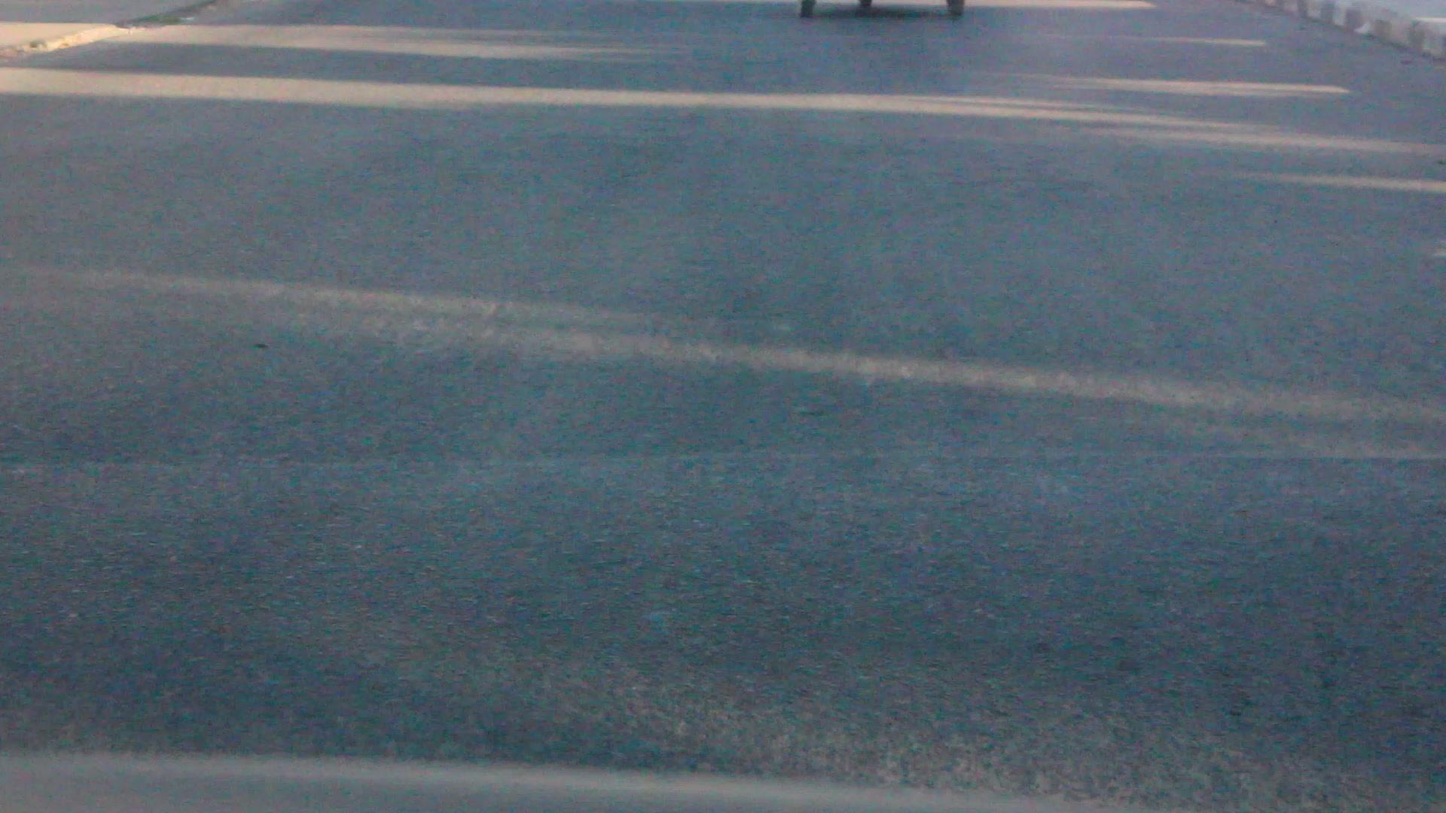Bump: (0, 448, 1446, 813)
